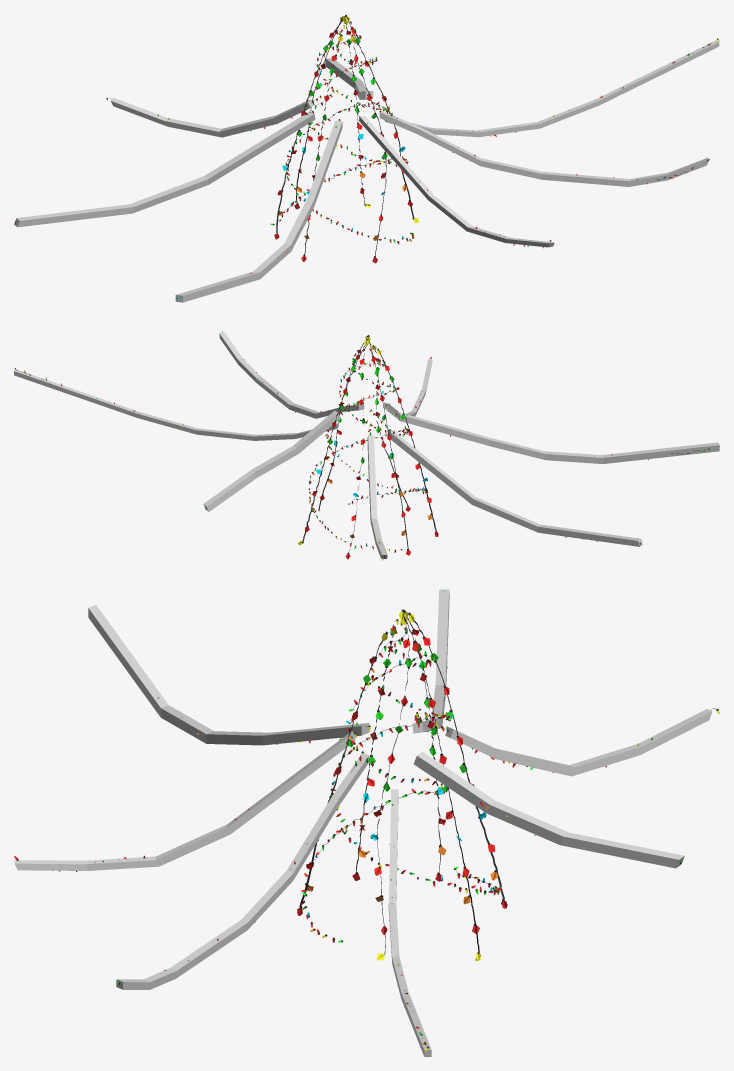
The model's file is lvl_v2.glb.
The picture shows the model from 3 angles, top to bottom: view 1: azimuth 30°, elevation 25°; view 2: azimuth 150°, elevation 25°; view 3: azimuth 270°, elevation 25°; orthographic projection. The views are drawn at different scales.
Parts seen in each view (by area): view 1: NurbsPath.005-col, NurbsPath.002-col, NurbsPath.004-col, NurbsPath.001-col, NurbsPath.003-col, NurbsPath.006-col, NurbsPath.007, NurbsPath.008, NurbsPath-col, NurbsPath.014, NurbsPath.011, NurbsPath.010; view 2: NurbsPath.004-col, NurbsPath.005-col, NurbsPath.001-col, NurbsPath-col, NurbsPath.002-col, NurbsPath.006-col, NurbsPath.008, NurbsPath.003-col, NurbsPath.012, NurbsPath.014, NurbsPath.009, NurbsPath.007; view 3: NurbsPath.004-col, NurbsPath-col, NurbsPath.002-col, NurbsPath.003-col, NurbsPath.006-col, NurbsPath.001-col, NurbsPath.005-col, NurbsPath.008, NurbsPath.007, NurbsPath.012, NurbsPath.013, NurbsPath.011 (+2 smaller).
Part boxes in pixels (box(x1,y1,x2,y2)): NurbsPath.005-col: box(14, 111, 315, 227); NurbsPath.002-col: box(379, 110, 707, 186); NurbsPath.004-col: box(175, 120, 342, 302); NurbsPath.001-col: box(384, 40, 719, 137); NurbsPath.003-col: box(359, 115, 554, 247); NurbsPath.006-col: box(110, 97, 313, 137); NurbsPath.007: box(285, 21, 414, 244); NurbsPath.008: box(270, 25, 408, 225); NurbsPath-col: box(325, 58, 373, 99); NurbsPath.014: box(274, 14, 346, 239); NurbsPath.011: box(345, 15, 418, 223); NurbsPath.010: box(350, 34, 387, 263); NurbsPath.004-col: box(398, 412, 719, 463); NurbsPath.005-col: box(387, 429, 643, 546); NurbsPath.001-col: box(14, 369, 338, 440); NurbsPath-col: box(203, 410, 340, 511); NurbsPath.002-col: box(219, 332, 364, 418); NurbsPath.006-col: box(367, 435, 387, 558); NurbsPath.008: box(308, 343, 408, 552); NurbsPath.003-col: box(383, 359, 432, 421); NurbsPath.012: box(298, 342, 369, 545); NurbsPath.014: box(366, 335, 410, 555); NurbsPath.009: box(377, 348, 438, 536); NurbsPath.007: box(325, 344, 428, 504); NurbsPath.004-col: box(88, 605, 369, 745); NurbsPath-col: box(414, 751, 684, 868); NurbsPath.002-col: box(116, 753, 368, 989); NurbsPath.003-col: box(14, 731, 355, 870); NurbsPath.006-col: box(445, 709, 712, 776); NurbsPath.001-col: box(388, 789, 431, 1056); NurbsPath.005-col: box(412, 589, 449, 733); NurbsPath.008: box(330, 623, 501, 894); NurbsPath.007: box(301, 619, 474, 942); NurbsPath.012: box(400, 617, 481, 960); NurbsPath.013: box(408, 612, 507, 908); NurbsPath.011: box(370, 609, 411, 960).
Size of the model in its own units: 62.65 by 19.26 by 38.76.
2 materials, 1 textured.
